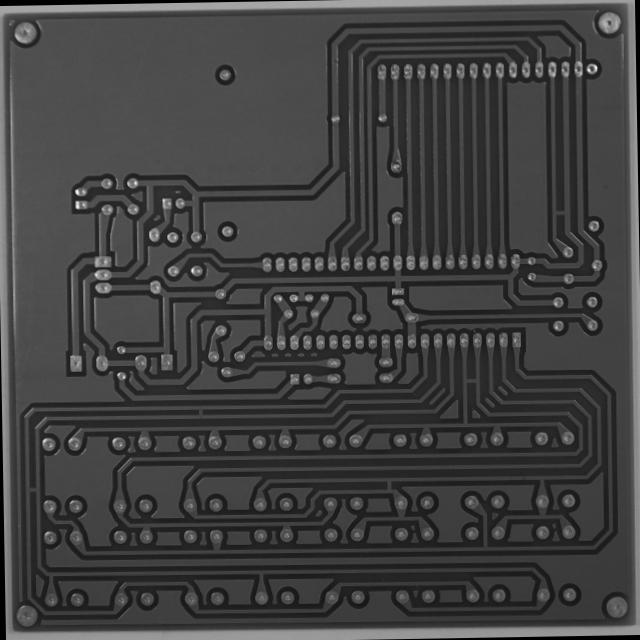short: (458, 372, 482, 390), (550, 203, 570, 220), (22, 481, 43, 496), (381, 476, 396, 495), (193, 402, 207, 418)
